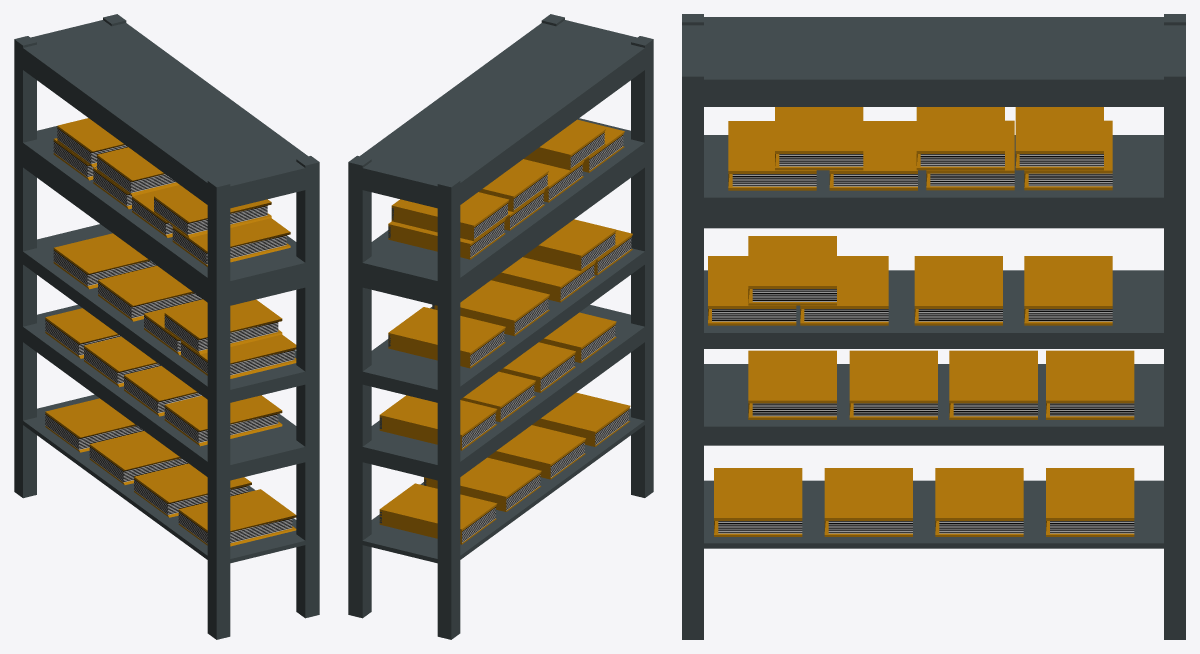
The model's file is Shelf.fbx.
The picture shows the model from 3 angles, left to right: view 1: azimuth 30°, elevation 25°; view 2: azimuth 150°, elevation 25°; view 3: azimuth 270°, elevation 25°; orthographic projection. The views are drawn at different scales.
Parts seen in each view (by area): view 1: Cube.039; view 2: Cube.039; view 3: Cube.039.
Boxes of the visible parts, <box> form: Cube.039: <box>14,14,319,639</box>; Cube.039: <box>348,14,653,639</box>; Cube.039: <box>682,14,1185,639</box>.
Bounding box in the file's own units: 0.5642 × 2.37 × 1.92.
